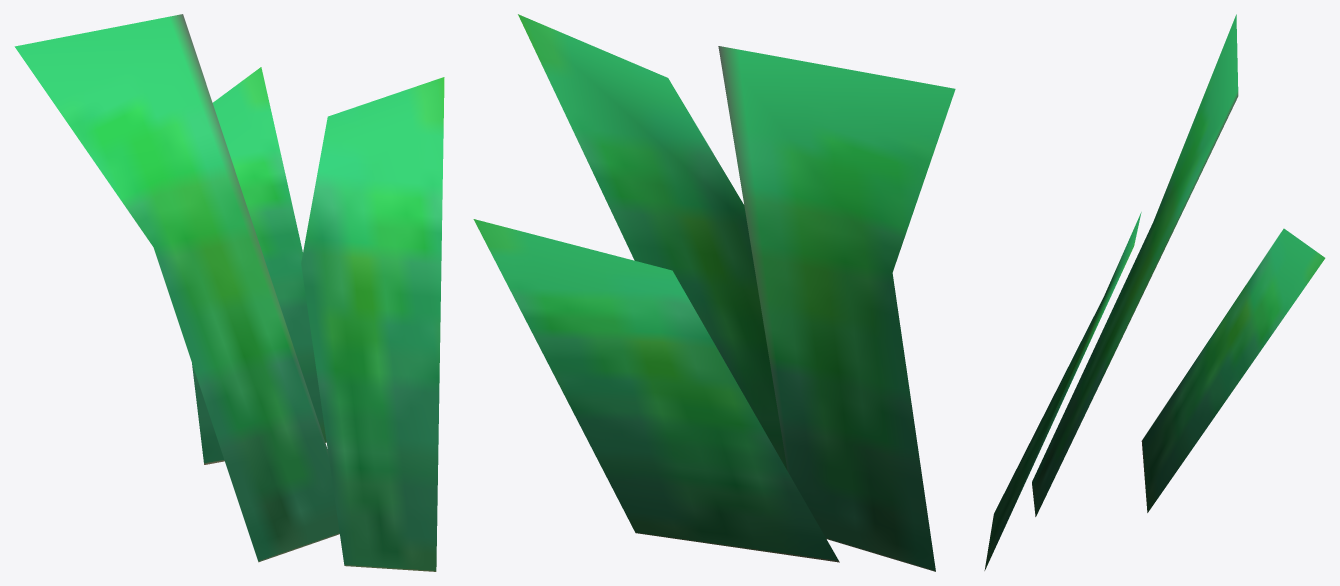
Rendered from fg_grassD.dae.
3 views of the same model, side by side, from view 1: azimuth 30°, elevation 25°; view 2: azimuth 150°, elevation 25°; view 3: azimuth 270°, elevation 25° (orthographic). The views are drawn at different scales.
Parts seen in each view (by area): view 1: fg_grassD; view 2: fg_grassD; view 3: fg_grassD.
Part boxes in pixels (<box>): fg_grassD: <box>14,14,444,571</box>; fg_grassD: <box>473,14,955,571</box>; fg_grassD: <box>984,14,1325,570</box>.
Size of the model in its own units: 14.73 by 18.52 by 13.13.
1 material, 1 textured.
